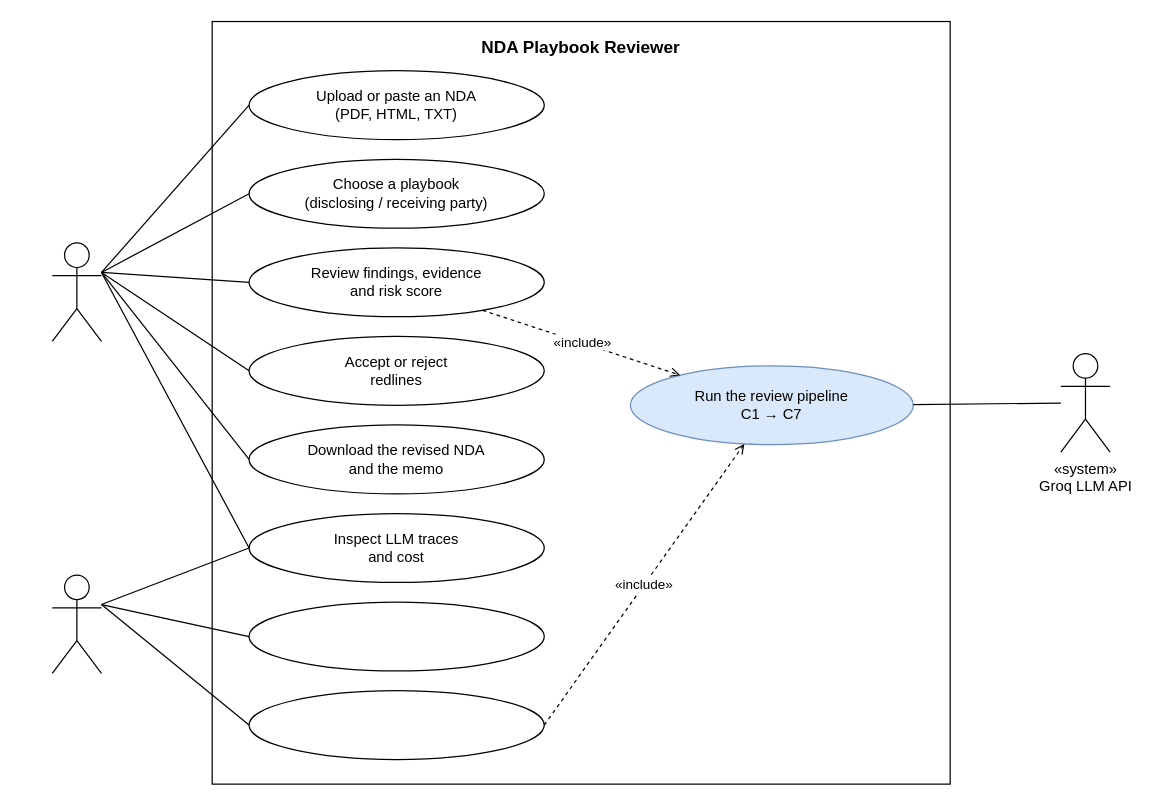
The diagram is 1153 pixels wide and 806 high, and some of its shapes have lost their labels. Each missing label, with the centre of its shape:
"Developer" belongs at (x=76, y=623).
"Edit playbook rules (YAML)" belongs at (x=396, y=636).
"Lawyer / contract reviewer" belongs at (x=76, y=291).
"Run component and end-to-end evals" belongs at (x=396, y=724).
